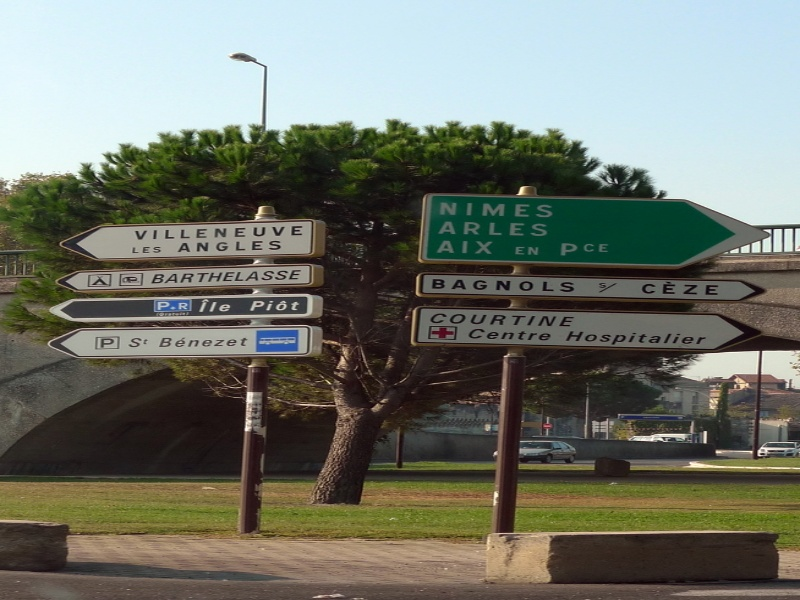bus_stop: (258, 331, 298, 349)
parking: (93, 335, 121, 349), (154, 300, 170, 312)
